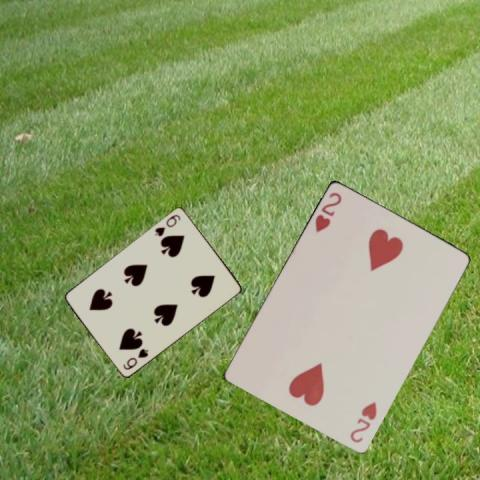2h: (347, 398, 378, 444), (312, 189, 343, 233)
6s: (152, 212, 182, 238), (120, 346, 150, 372)
